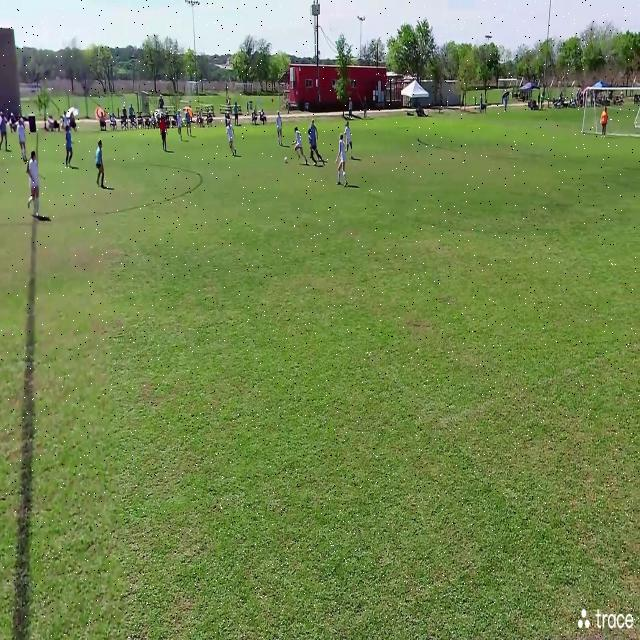Ball: (284, 156, 289, 164)
GoalKeeper: (598, 103, 609, 139)
Referee: (159, 114, 168, 153)
TEAM 1: (307, 128, 324, 166), (0, 110, 13, 153), (65, 123, 76, 169), (96, 140, 106, 189), (186, 109, 193, 138), (311, 120, 319, 142)
TEAM 2: (27, 152, 42, 220), (338, 133, 349, 186), (226, 119, 239, 158), (293, 125, 305, 162), (17, 119, 27, 163), (346, 122, 354, 160), (177, 110, 184, 142), (277, 110, 283, 146)
